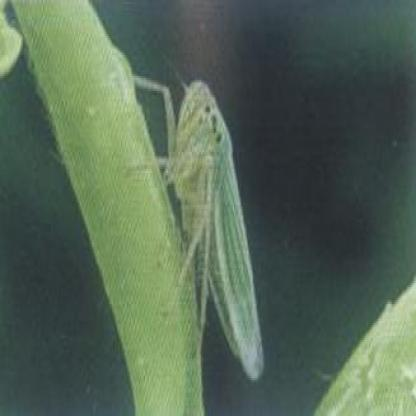Green-Leafhopper: (124, 73, 272, 384)
